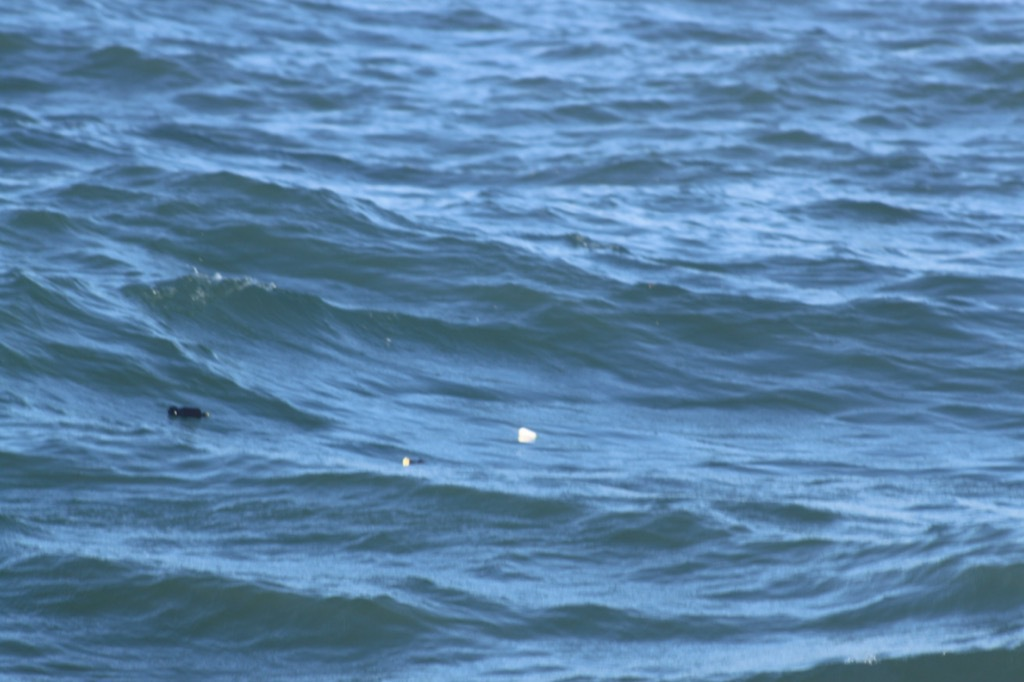plastic: (490, 403, 565, 473), (154, 377, 221, 454), (378, 438, 445, 491)
